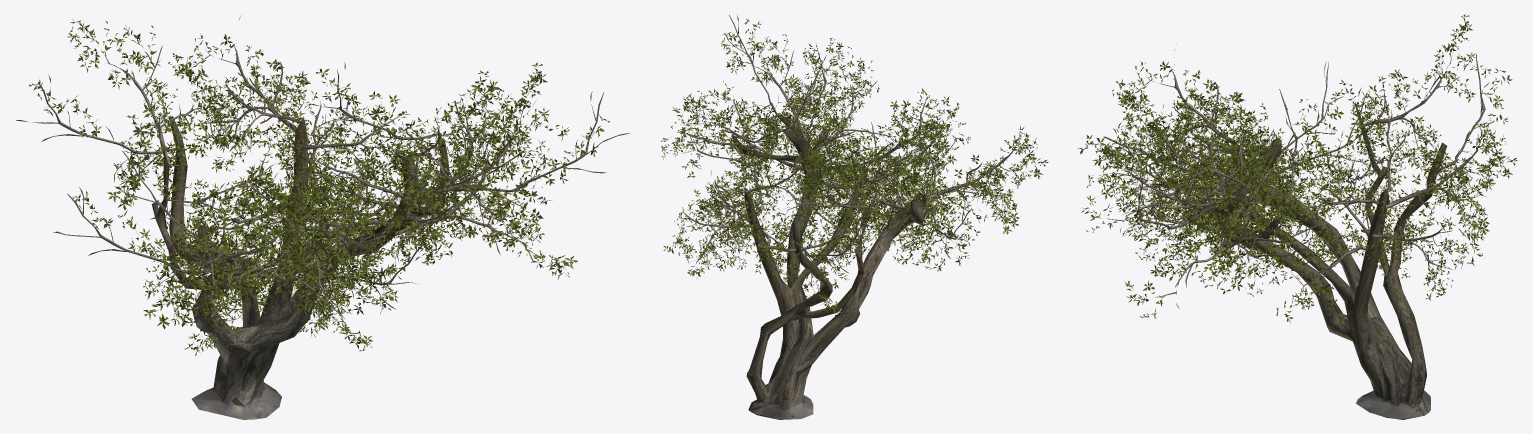
The model's file is island_tree_02-medium.gltf.
The picture shows the model from 3 angles, left to right: view 1: azimuth 30°, elevation 25°; view 2: azimuth 150°, elevation 25°; view 3: azimuth 270°, elevation 25°; orthographic projection. The views are drawn at different scales.
Visible parts, largest first — view 1: island_tree_02_LOD0; view 2: island_tree_02_LOD0; view 3: island_tree_02_LOD0.
Boxes of the visible parts, left/top/right/bottom form: island_tree_02_LOD0: left=16, top=16, right=630, bottom=419; island_tree_02_LOD0: left=661, top=14, right=1048, bottom=419; island_tree_02_LOD0: left=1077, top=14, right=1517, bottom=419.
Size of the model in its own units: 4.21 by 3.41 by 4.07.
Materials: 3 (3 with a texture image).
